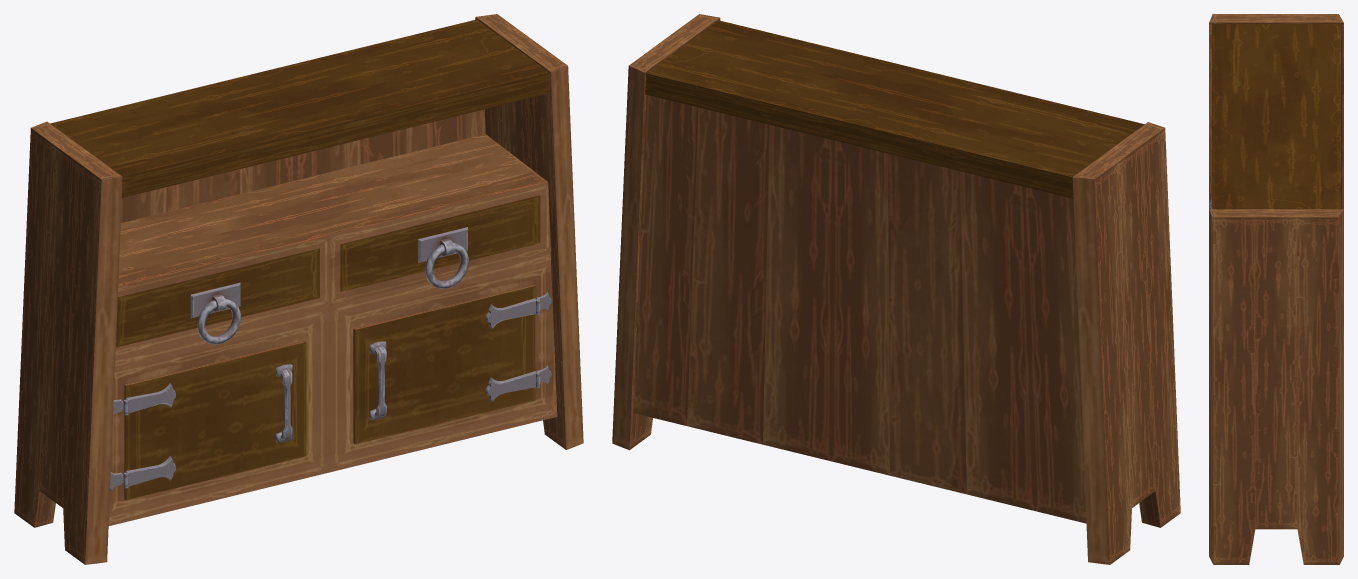
File: Cabinet.glb
3 renders of one model, left to right at view 1: azimuth 30°, elevation 25°; view 2: azimuth 150°, elevation 25°; view 3: azimuth 270°, elevation 25°, orthographic. The views are drawn at different scales.
Parts seen in each view (by area): view 1: Cabinet; view 2: Cabinet; view 3: Cabinet.
Boxes of the visible parts, left/top/right/bottom form: Cabinet: left=14, top=14, right=583, bottom=564; Cabinet: left=612, top=14, right=1180, bottom=564; Cabinet: left=1209, top=14, right=1343, bottom=564.
Size of the model in its own units: 1.36 by 0.9974 by 0.3571.
Materials: 2 (2 with a texture image).
